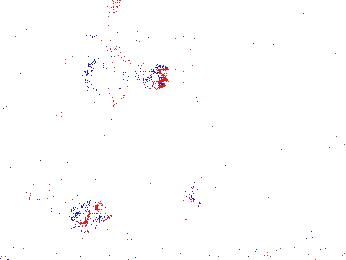flame jellyfish: (74, 49, 169, 108), (28, 172, 113, 227), (179, 156, 234, 208)
